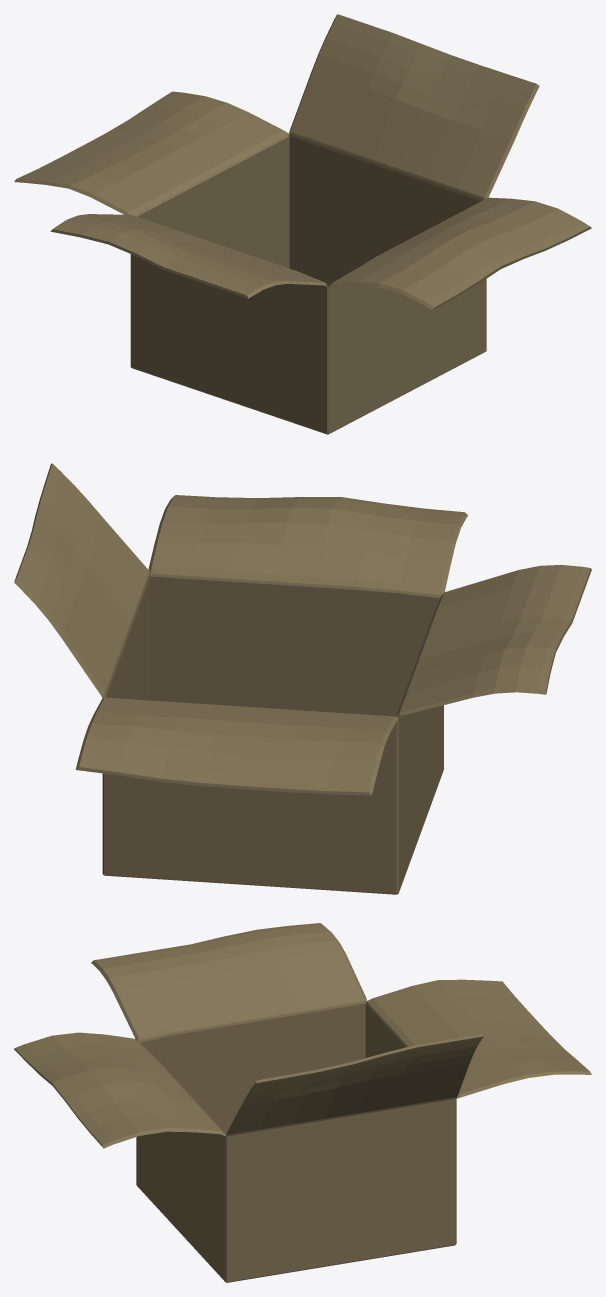
3 views of the same model, one above another, from view 1: azimuth 30°, elevation 25°; view 2: azimuth 150°, elevation 25°; view 3: azimuth 270°, elevation 25° (orthographic). The views are drawn at different scales.
Parts seen in each view (by area): view 1: Cube; view 2: Cube; view 3: Cube.
Part boxes in pixels (x1,y1,x2,y2): Cube: (14,14,591,434); Cube: (14,463,591,894); Cube: (14,923,591,1282).
Bounding box in the file's own units: 8.2 × 4.24 × 9.24.
